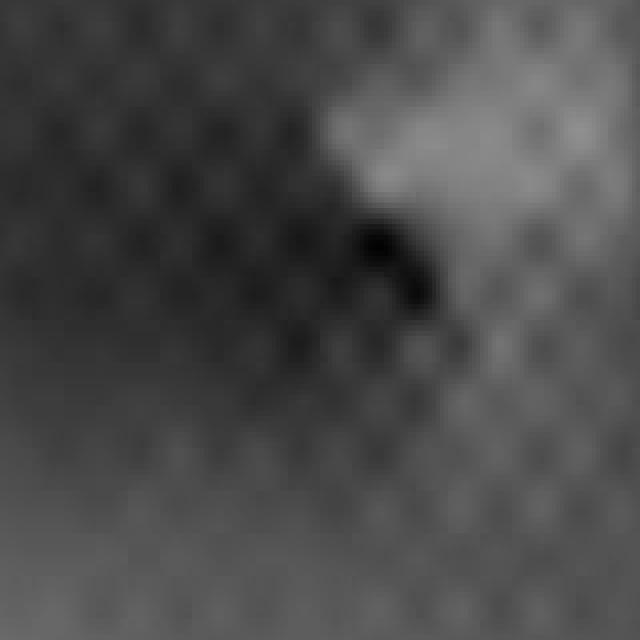person: (345, 1, 617, 470)
